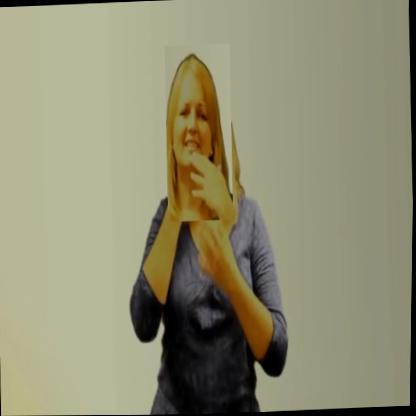ThankYou: (163, 44, 236, 223)
